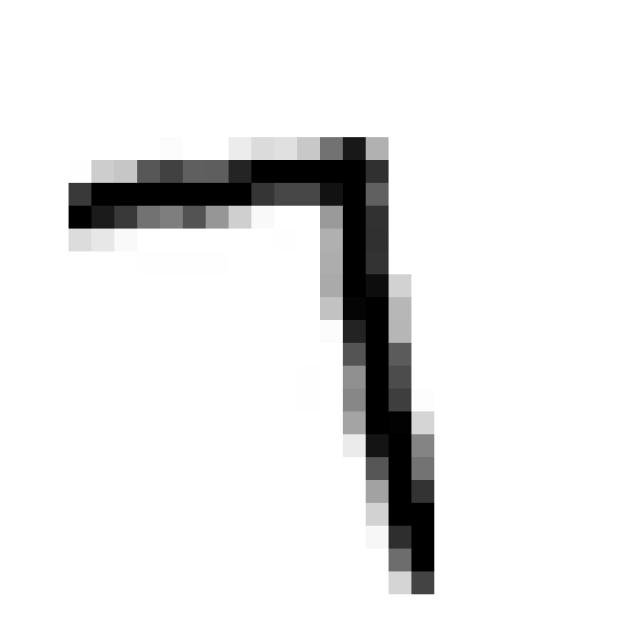6 -six-: (55, 119, 465, 602)
